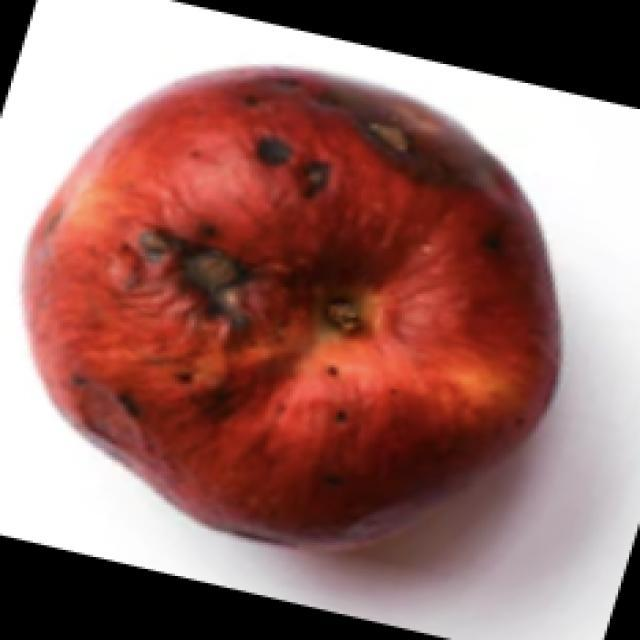Rotten: (40, 65, 558, 558)
